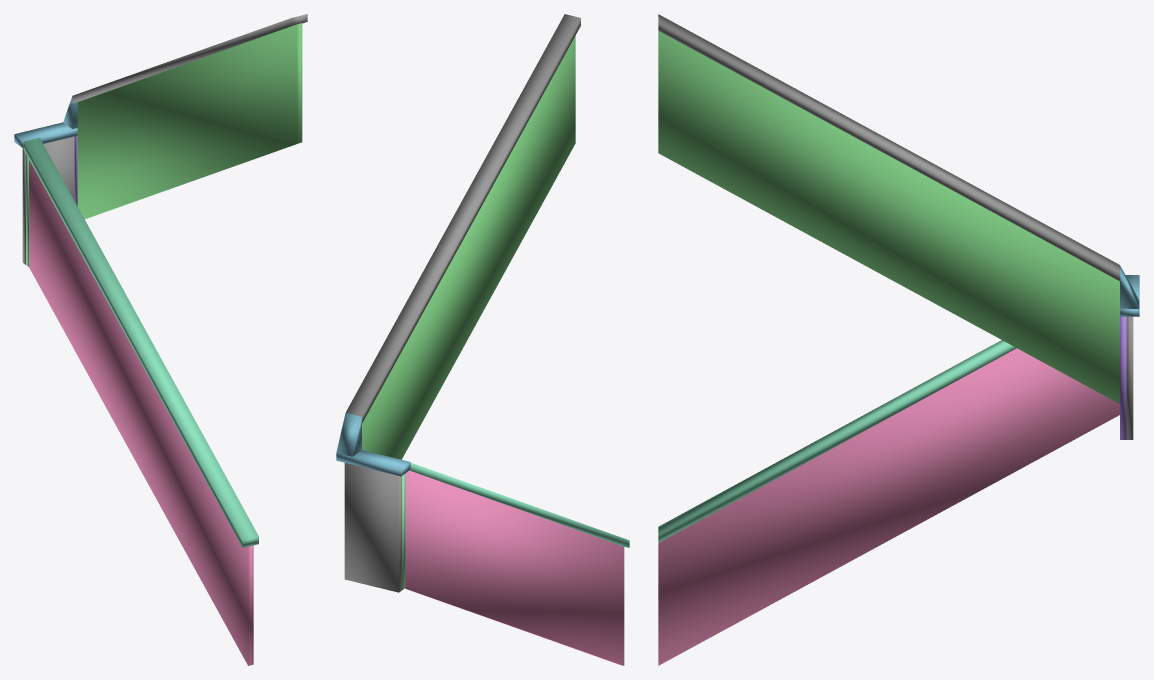
The model's file is stairwall.obj.
3 views of the same model, side by side, from view 1: azimuth 30°, elevation 25°; view 2: azimuth 150°, elevation 25°; view 3: azimuth 270°, elevation 25° (orthographic). The views are drawn at different scales.
Visible parts, largest first — view 1: Rectangle041, Rectangle036, Rectangle035, Rectangle042, Rectangle039, Rectangle040; view 2: Rectangle036, Rectangle041, Rectangle042, Rectangle039, Rectangle035, Rectangle040, Rectangle045, Rectangle043; view 3: Rectangle041, Rectangle036, Rectangle042, Rectangle035, Rectangle039, Rectangle044.
Boxes of the visible parts, x1,y1,x2,y2 form: Rectangle041: (77, 23, 302, 219); Rectangle036: (29, 160, 253, 665); Rectangle035: (23, 138, 258, 547); Rectangle042: (72, 14, 307, 103); Rectangle039: (22, 136, 74, 264); Rectangle040: (14, 122, 77, 148); Rectangle036: (405, 470, 624, 665); Rectangle041: (362, 36, 575, 459); Rectangle042: (346, 14, 580, 423); Rectangle039: (344, 463, 401, 592); Rectangle035: (410, 463, 629, 547); Rectangle040: (336, 450, 410, 476); Rectangle045: (336, 413, 361, 456); Rectangle043: (402, 474, 405, 589); Rectangle041: (658, 30, 1119, 403); Rectangle036: (658, 348, 1119, 665); Rectangle042: (658, 14, 1119, 281); Rectangle035: (658, 340, 1016, 542); Rectangle039: (1126, 316, 1133, 439); Rectangle044: (1120, 316, 1126, 439).
Bounding box in the file's own units: 14.4 × 135 × 87.6.
